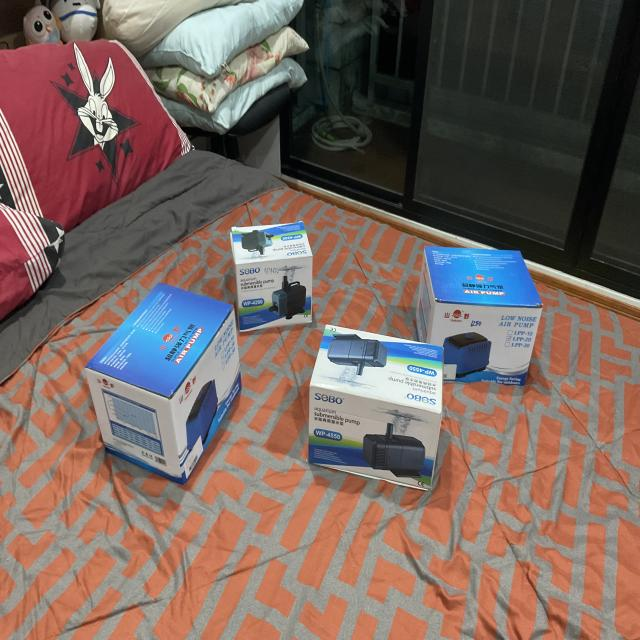SOBO_WP_4200: (302, 322, 449, 502), (226, 215, 323, 343)
YAMANO_LPP_20: (81, 267, 248, 492), (410, 230, 552, 381)
